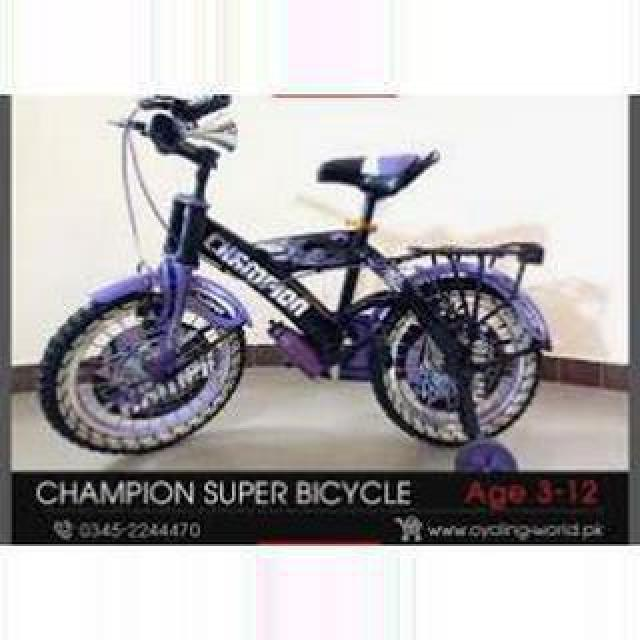Person: (34, 94, 560, 460)
